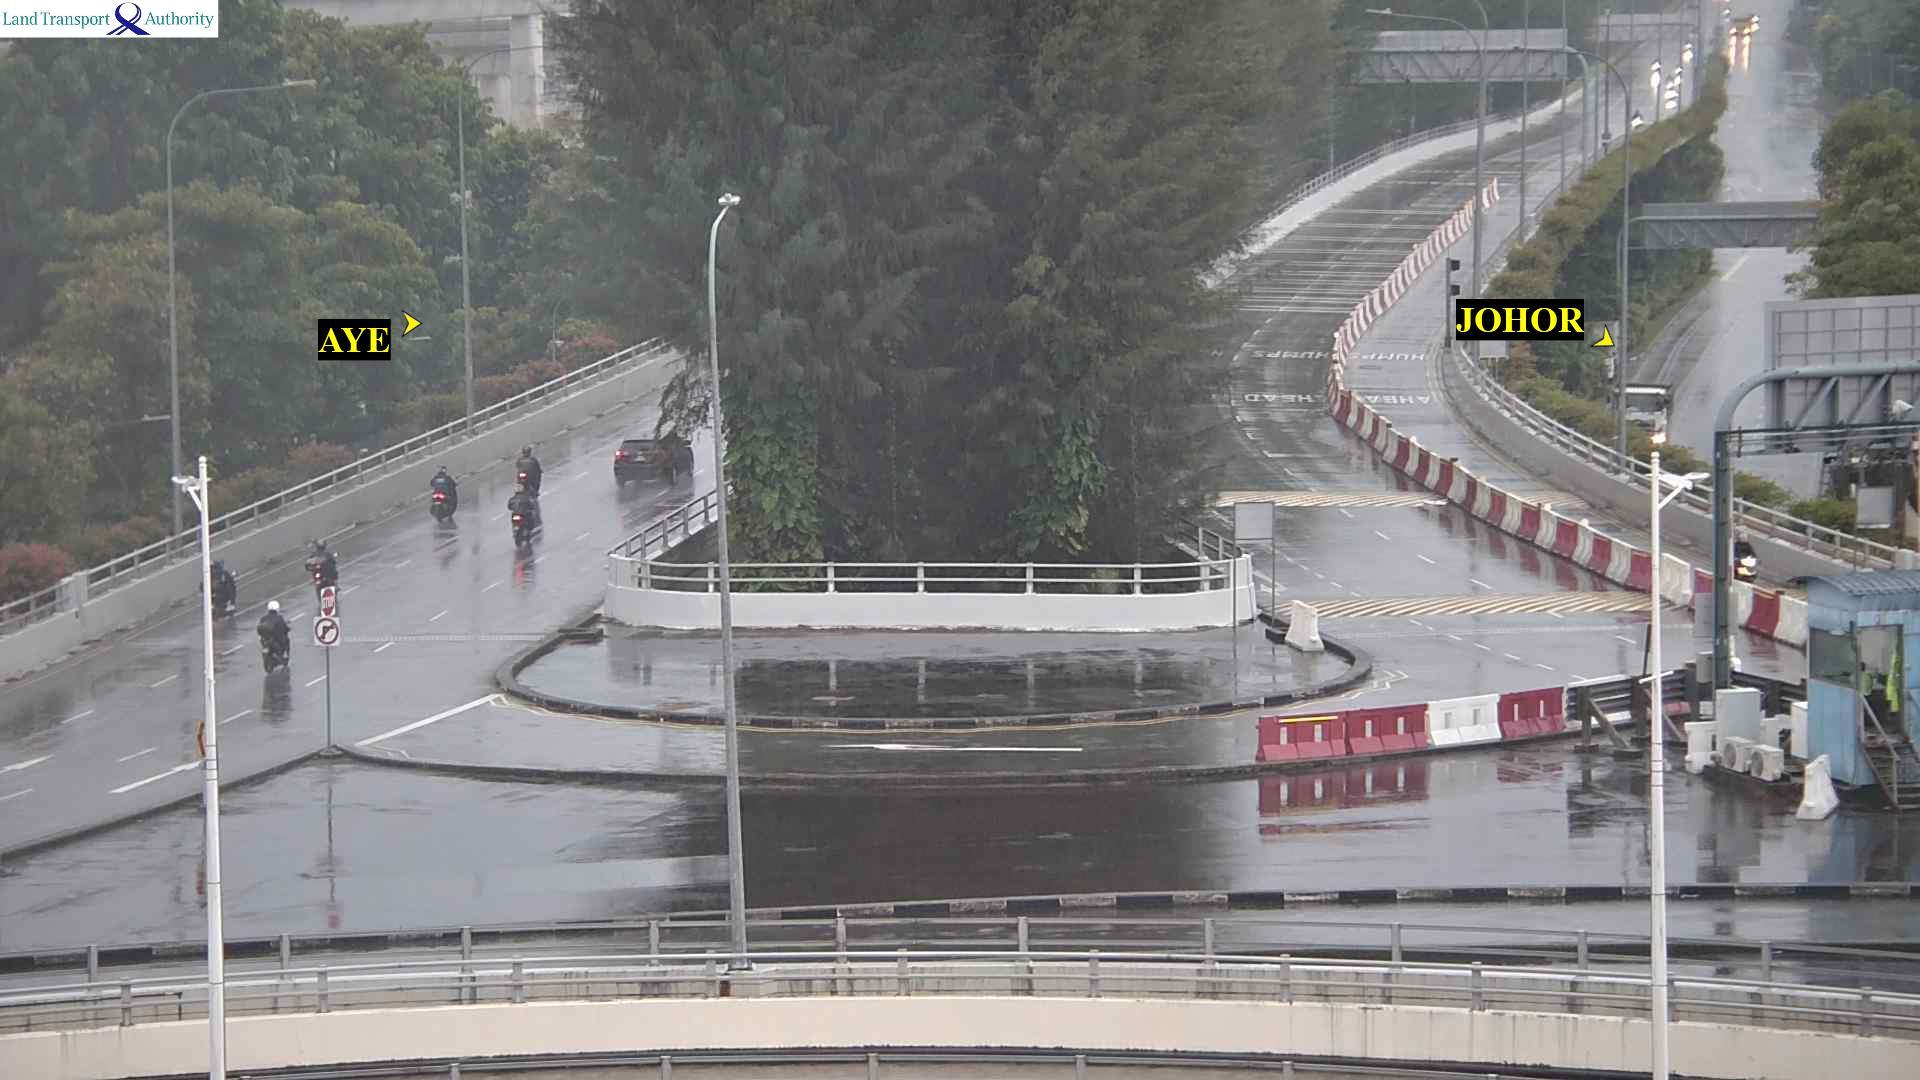vehicle-secondlink-johor: (1735, 533, 1758, 578)
vehicle-secondlink-singapore: (616, 426, 695, 481), (422, 454, 459, 518), (261, 597, 290, 673), (309, 538, 342, 593), (210, 559, 237, 611), (512, 491, 531, 549), (520, 444, 545, 489)
